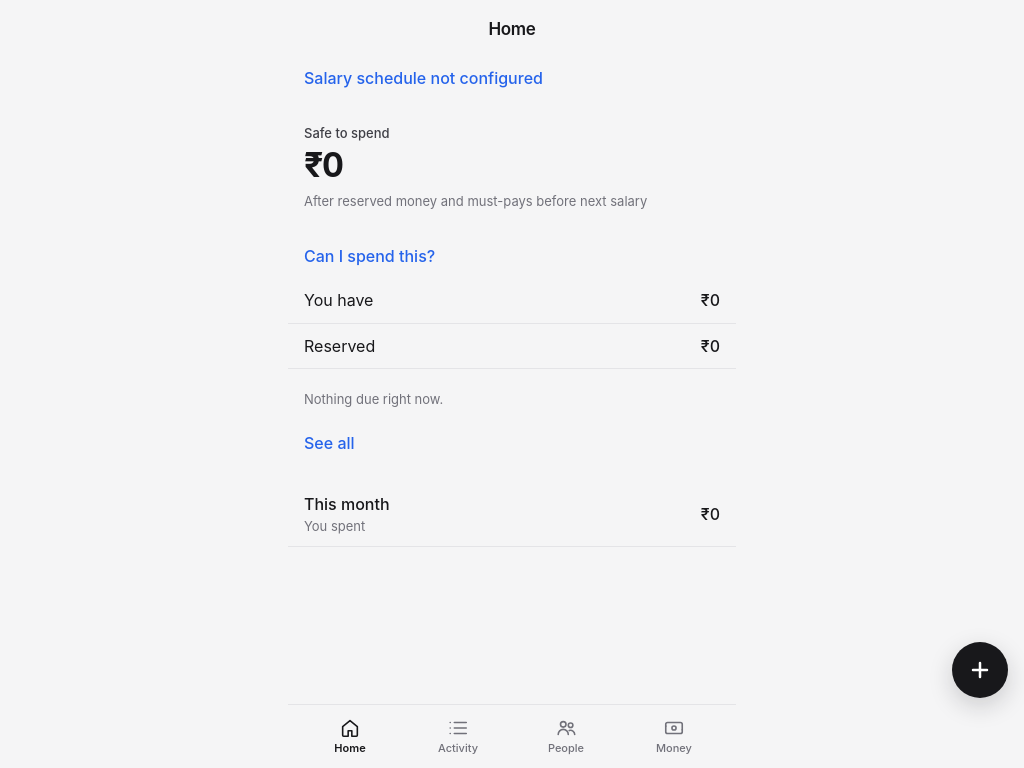
UX Stage B navigation and IA › K — Sign out is not on Home or Money headers
Check: the heading "Home" is shown, box [488, 19, 536, 39]
Check: the button "Sign out" is not shown
Click the link "Money" at (674, 736), box [656, 717, 692, 755]
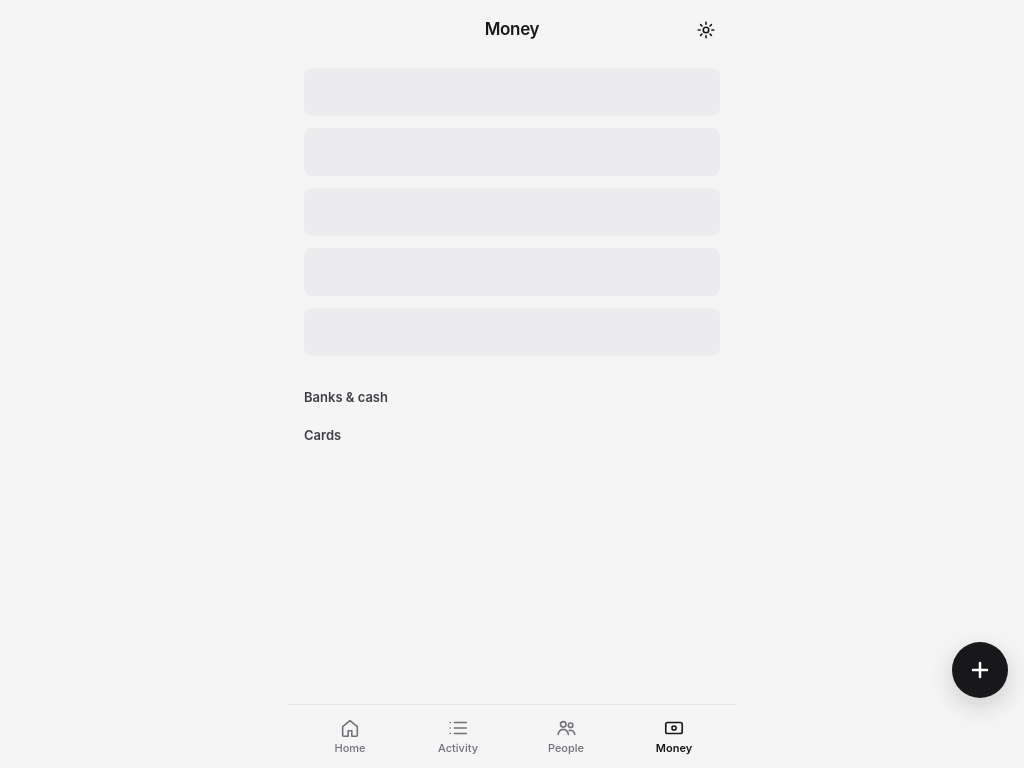
Check: the button "Sign out" is not shown
Check: the heading "Money" is shown, box [485, 19, 539, 39]
Click the button named "Manage money" at (706, 30), box [684, 8, 728, 52]
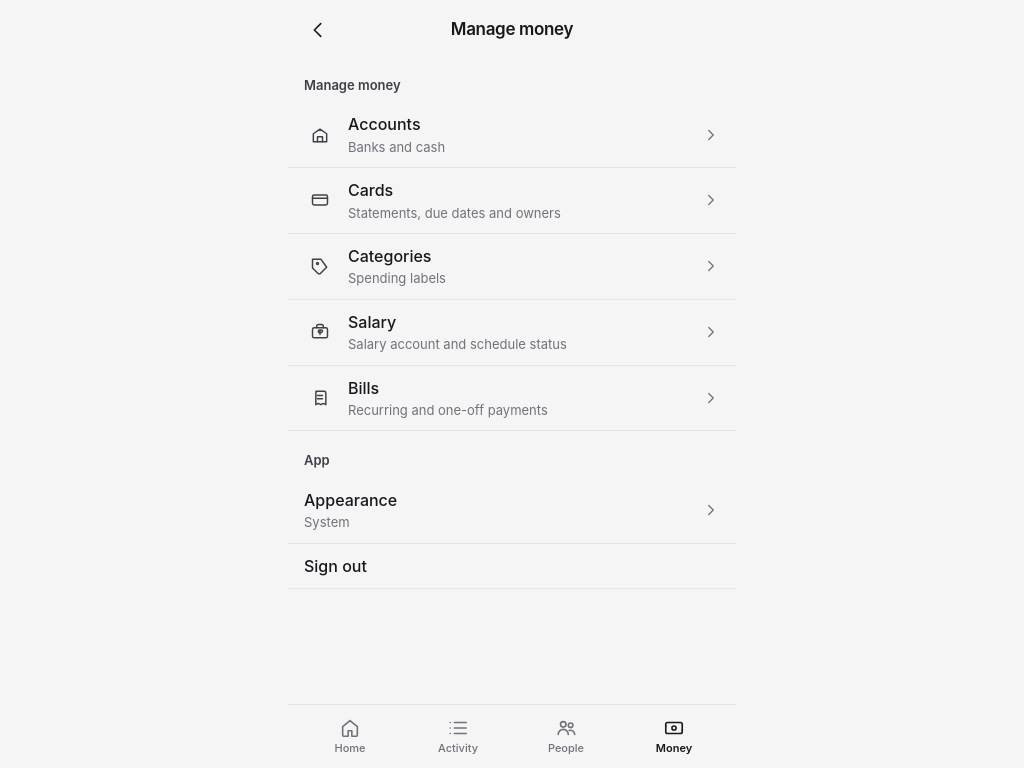
Check: the heading "Manage money" is shown, box [451, 19, 573, 39]
Check: the button "Sign out" is shown, box [288, 544, 736, 589]
